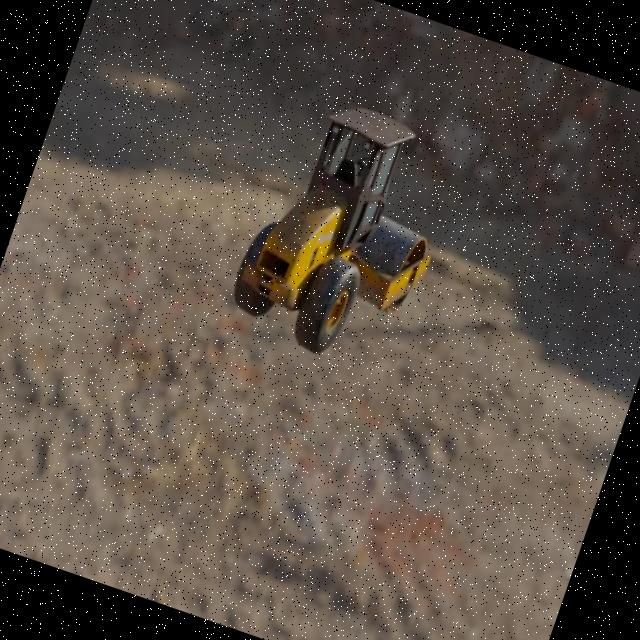Roller: (220, 85, 470, 379)
